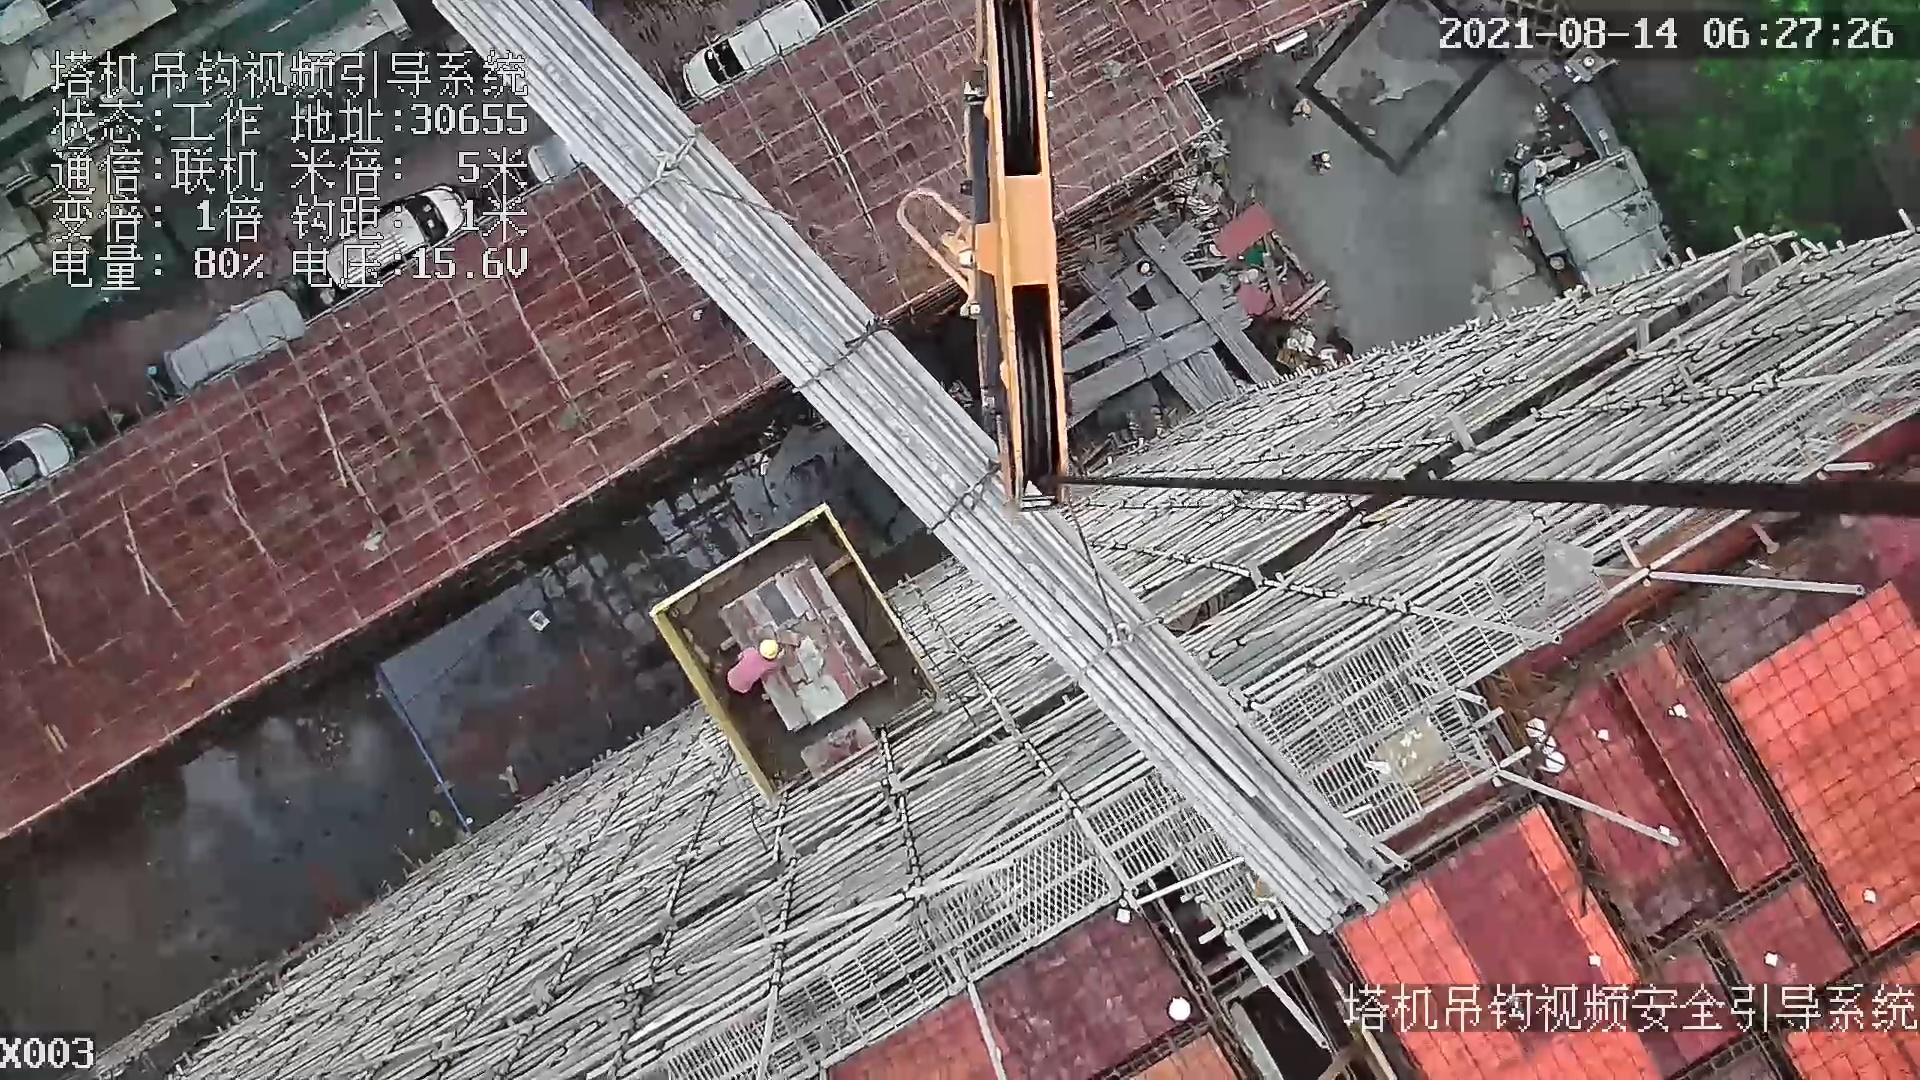helmet: (756, 635, 784, 663)
hook: (964, 1, 1077, 508)
person: (724, 641, 787, 698)
